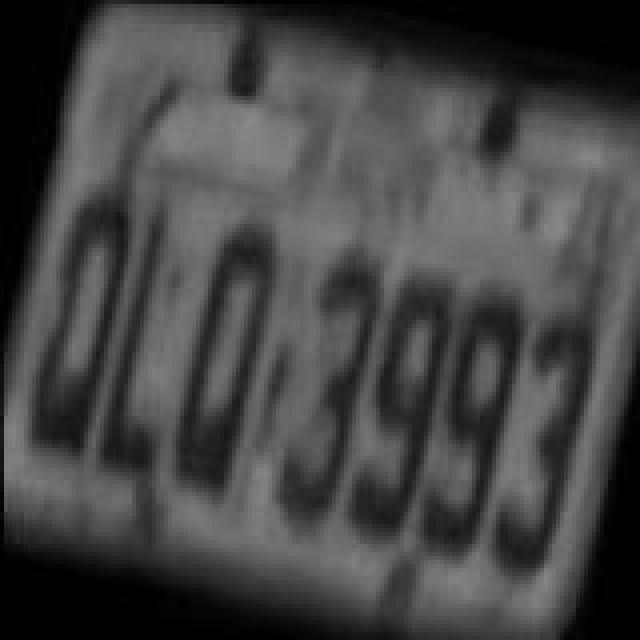3: (264, 238, 396, 538), (476, 302, 608, 590)
9: (410, 286, 538, 574), (340, 270, 464, 554)
L: (92, 204, 216, 488)
Q: (162, 212, 290, 496), (18, 188, 146, 468)
